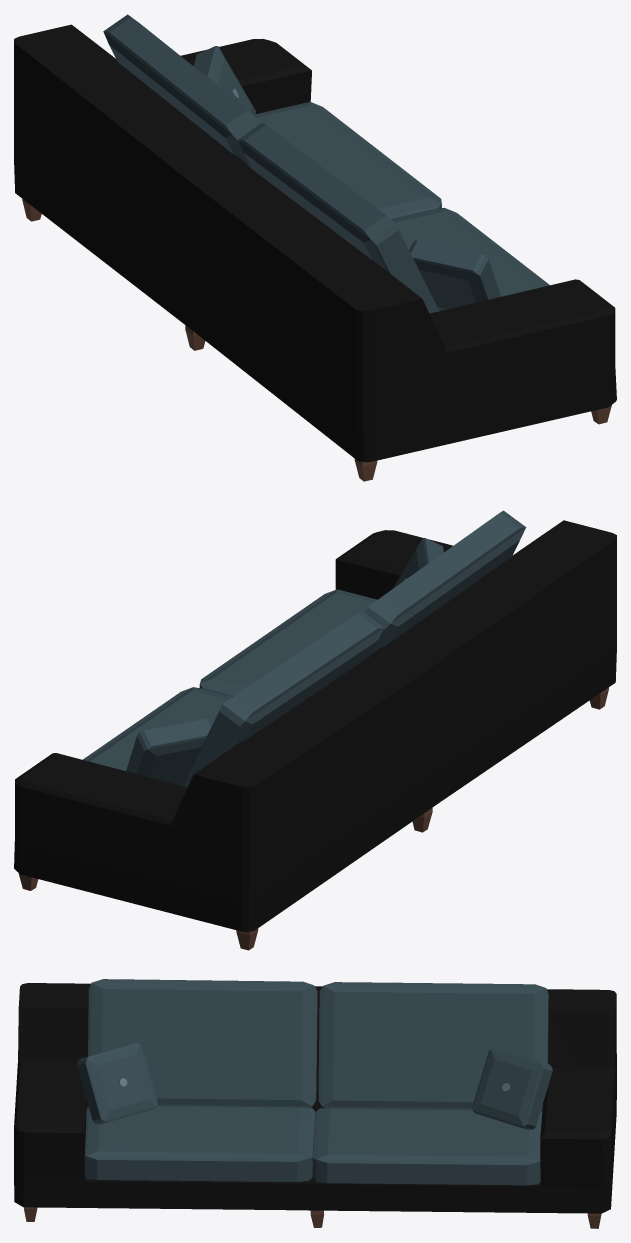
File: sofa_2_01.glb
The picture shows the model from 3 angles, top to bottom: view 1: azimuth 30°, elevation 25°; view 2: azimuth 150°, elevation 25°; view 3: azimuth 270°, elevation 25°; orthographic projection. The views are drawn at different scales.
Visible parts, largest first — view 1: node_MeshObject634761920-PolyPaper20; view 2: node_MeshObject634761920-PolyPaper20; view 3: node_MeshObject634761920-PolyPaper20.
Part boxes in pixels (x1,y1,x2,y2): node_MeshObject634761920-PolyPaper20: [14, 14, 616, 481]; node_MeshObject634761920-PolyPaper20: [14, 510, 616, 950]; node_MeshObject634761920-PolyPaper20: [14, 979, 616, 1228].
Size of the model in its own units: 3.38 by 2.56 by 7.91.
